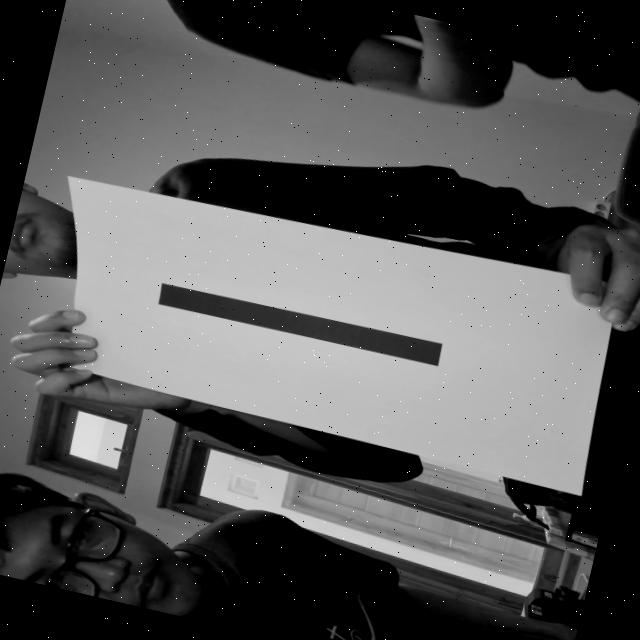i: (130, 259, 472, 395)
